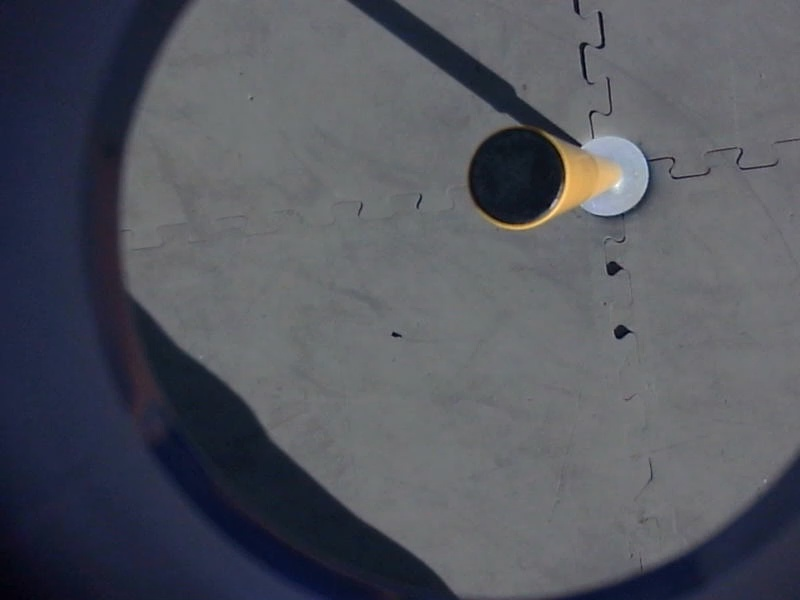tip: (461, 122, 576, 237)
